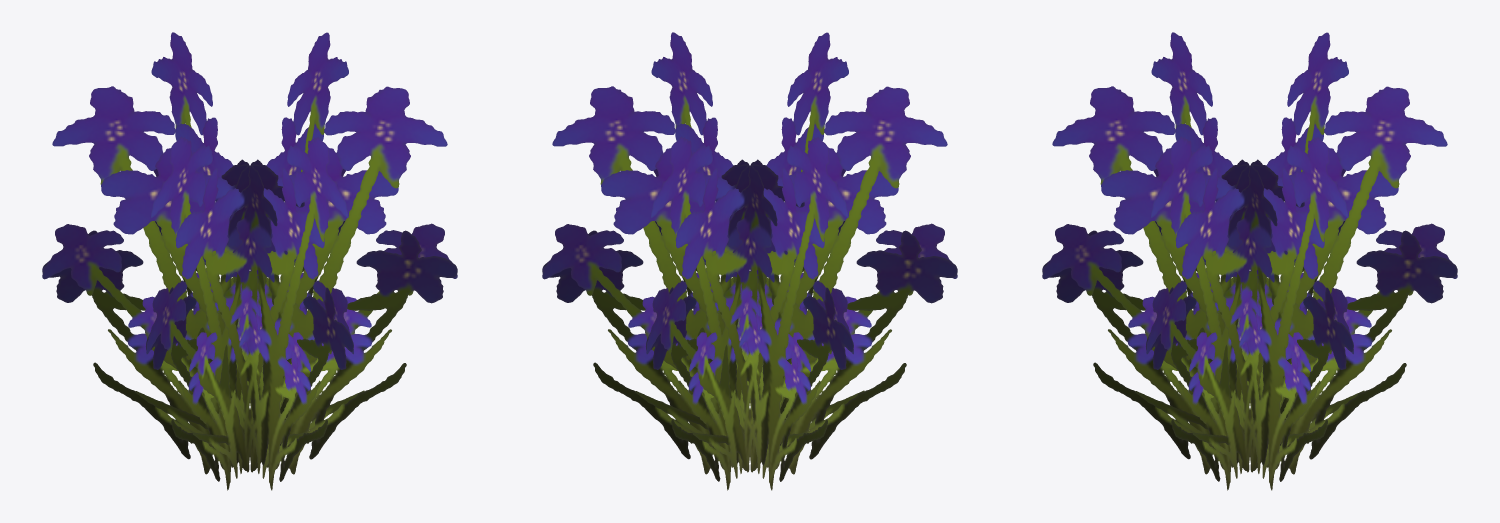
File: hp_flower3.glb
3 renders of one model, left to right at view 1: azimuth 30°, elevation 25°; view 2: azimuth 150°, elevation 25°; view 3: azimuth 270°, elevation 25°, orthographic.
Parts seen in each view (by area): view 1: _MeshInstance3D_9; view 2: _MeshInstance3D_9; view 3: _MeshInstance3D_9.
Boxes of the visible parts, x1,y1,x2,y2 form: _MeshInstance3D_9: (42,32,457,490); _MeshInstance3D_9: (542,32,957,490); _MeshInstance3D_9: (1042,32,1457,490).
Size of the model in its own units: 4.64 by 5.11 by 5.36.
Materials: 1 (1 with a texture image).
